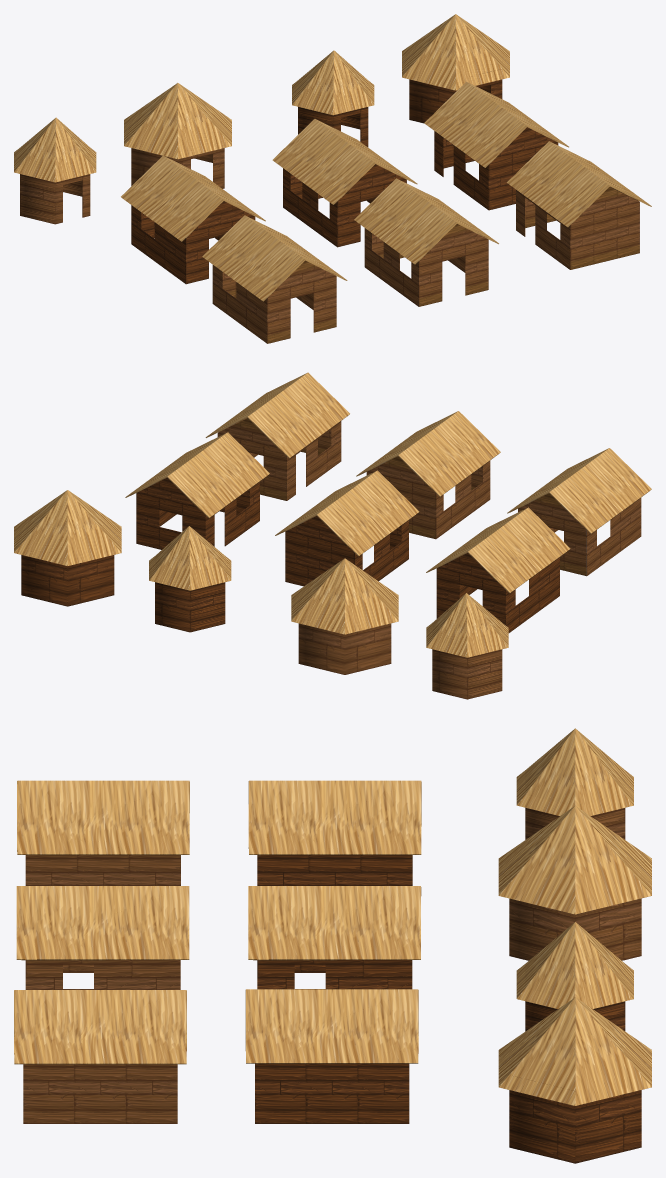
File: House_Village_2.FBX
3 renders of one model, top to bottom at view 1: azimuth 30°, elevation 25°; view 2: azimuth 150°, elevation 25°; view 3: azimuth 270°, elevation 25°, orthographic. The views are drawn at different scales.
Visible parts, largest first — view 1: Plane121, Plane119, Object030, Plane062, Object023, Object021, Cylinder002, Cylinder004, Cylinder003, Cylinder001; view 2: Object023, Plane062, Object021, Object030, Cylinder004, Cylinder002, Plane119, Plane121, Cylinder003, Cylinder001; view 3: Object023, Plane121, Cylinder002, Plane062, Plane119, Object030, Object021, Cylinder004, Cylinder003, Cylinder001.
Part boxes in pixels (bbox=[...]): Plane121: bbox=[507, 141, 651, 269]; Plane119: bbox=[202, 215, 347, 343]; Object030: bbox=[354, 178, 498, 306]; Plane062: bbox=[121, 155, 265, 284]; Object023: bbox=[424, 82, 568, 210]; Object021: bbox=[272, 119, 417, 247]; Cylinder002: bbox=[402, 14, 509, 123]; Cylinder004: bbox=[124, 83, 231, 188]; Cylinder003: bbox=[14, 117, 96, 224]; Cylinder001: bbox=[292, 50, 374, 147]; Object023: bbox=[125, 432, 269, 549]; Plane062: bbox=[426, 507, 570, 632]; Object021: bbox=[275, 470, 419, 586]; Object030: bbox=[356, 411, 500, 539]; Cylinder004: bbox=[291, 558, 398, 674]; Cylinder002: bbox=[14, 490, 121, 606]; Plane119: bbox=[507, 448, 651, 576]; Plane121: bbox=[205, 372, 349, 500]; Cylinder003: bbox=[426, 593, 508, 699]; Cylinder001: bbox=[149, 526, 231, 632]; Object023: bbox=[245, 989, 418, 1123]; Plane121: bbox=[14, 990, 186, 1123]; Cylinder002: bbox=[498, 997, 651, 1163]; Plane062: bbox=[248, 780, 421, 885]; Plane119: bbox=[17, 780, 189, 885]; Object030: bbox=[16, 886, 189, 989]; Object021: bbox=[248, 886, 421, 989]; Cylinder004: bbox=[498, 805, 651, 960]; Cylinder003: bbox=[516, 728, 633, 839]; Cylinder001: bbox=[516, 922, 633, 1031].
Size of the model in its own units: 3848 by 712 by 3018.
6 materials, 6 textured.
